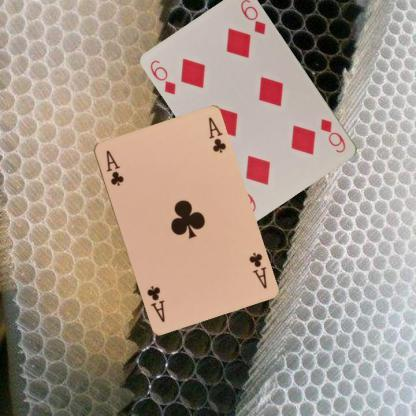6d: (318, 116, 348, 154), (148, 58, 178, 96)
Ac: (103, 148, 125, 188), (246, 250, 268, 290)
